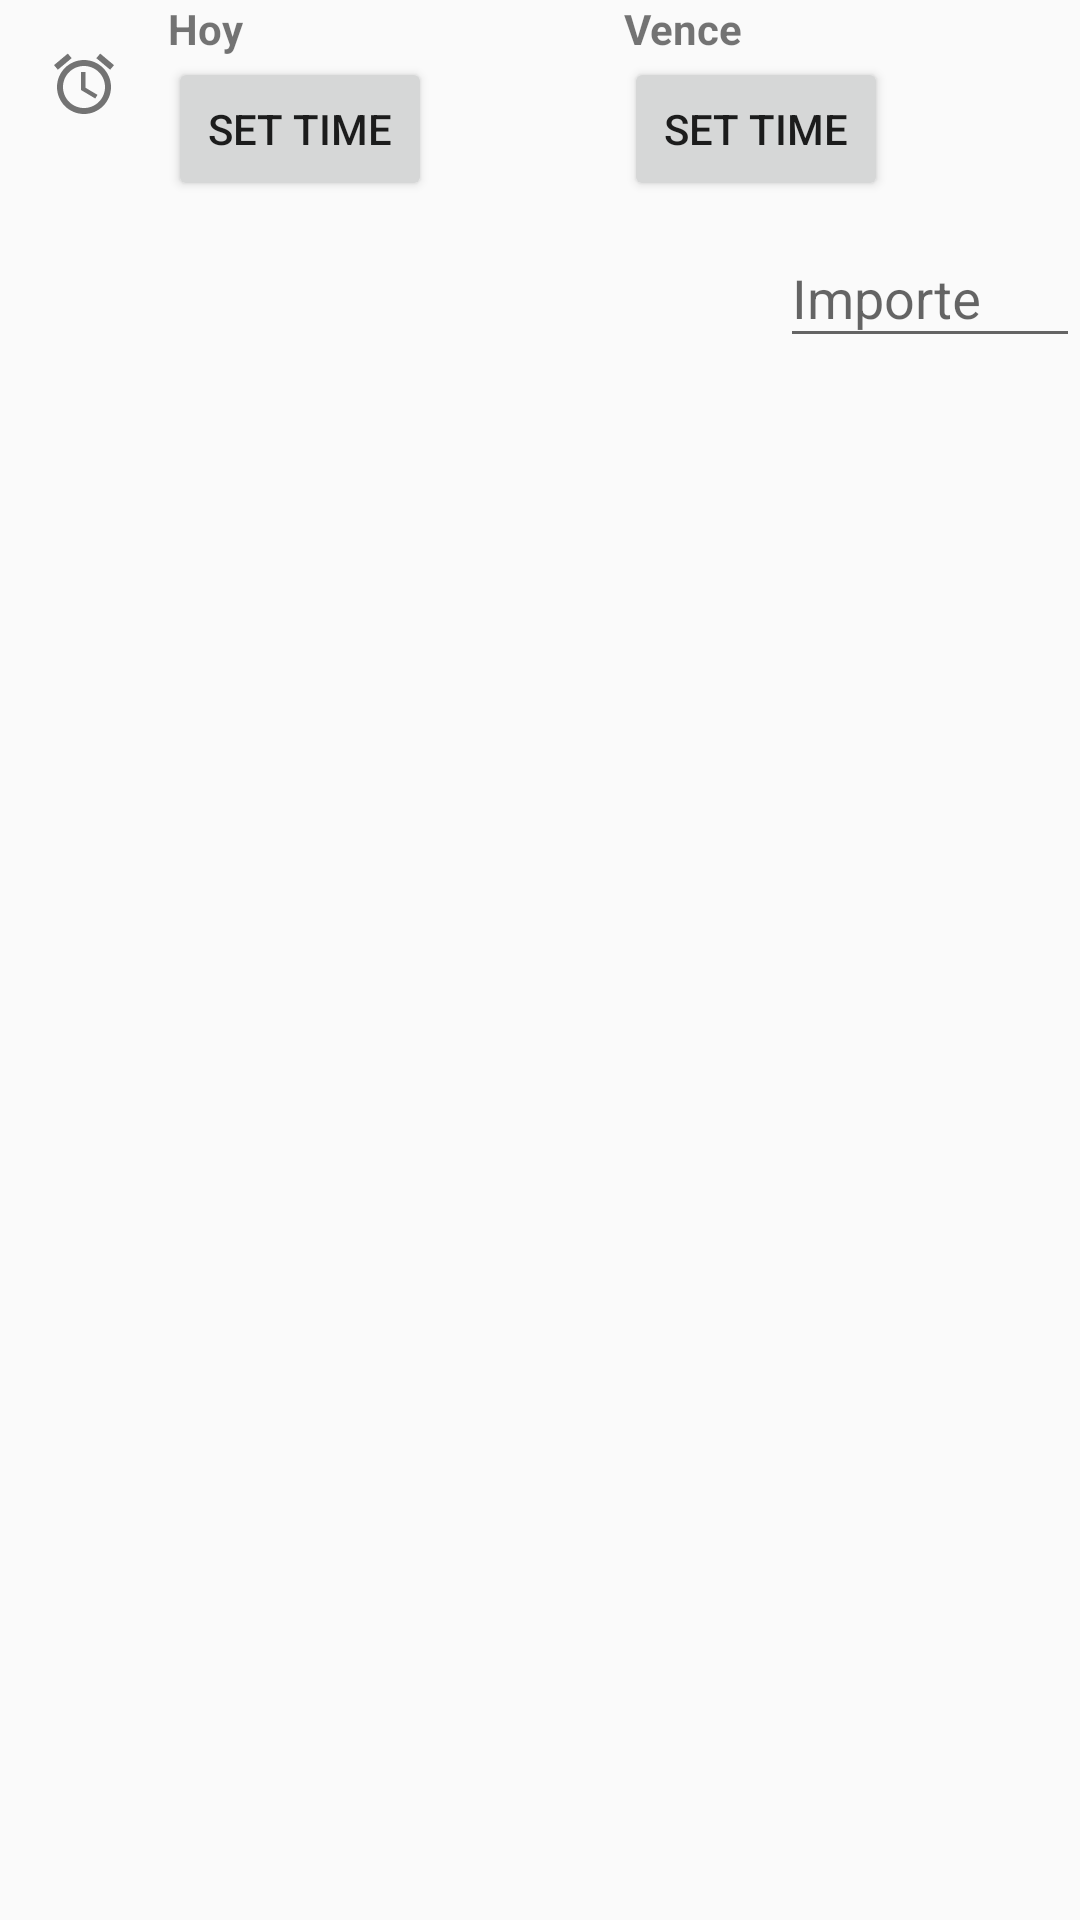

Point at icon controls on the screen. Image size 1080w x 1920h, points as [x,y].
alarm: [84,84]
